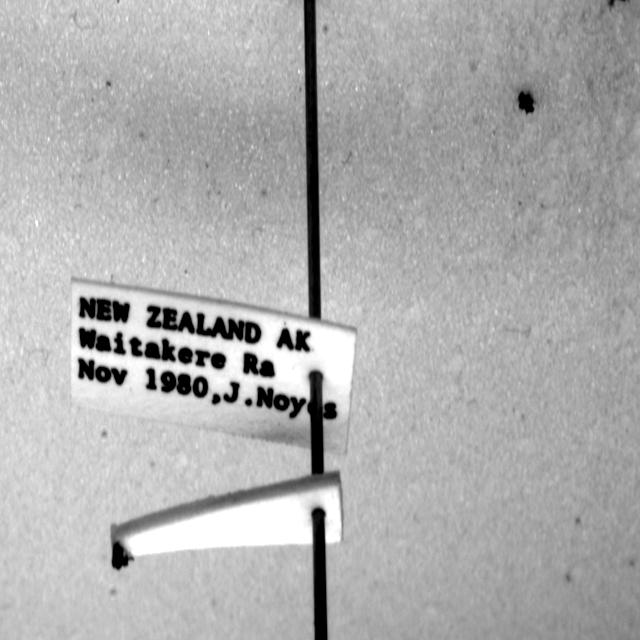typed_label: (71, 279, 356, 454)
